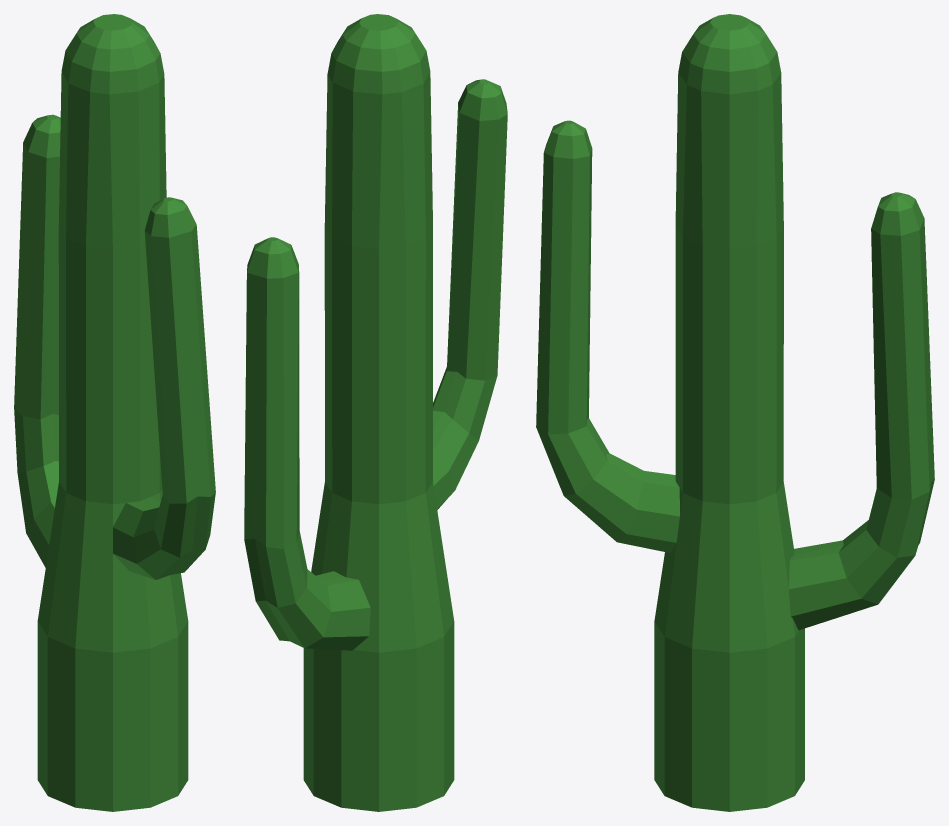
File: Tree03.fbx
3 views of the same model, side by side, from view 1: azimuth 30°, elevation 25°; view 2: azimuth 150°, elevation 25°; view 3: azimuth 270°, elevation 25° (orthographic).
Parts seen in each view (by area): view 1: Cliptus; view 2: Cliptus; view 3: Cliptus.
Part boxes in pixels (x1,y1,x2,y2): Cliptus: (14, 14, 215, 811); Cliptus: (244, 14, 507, 811); Cliptus: (536, 14, 934, 811).
Size of the model in its own units: 41.67 by 231 by 110.
